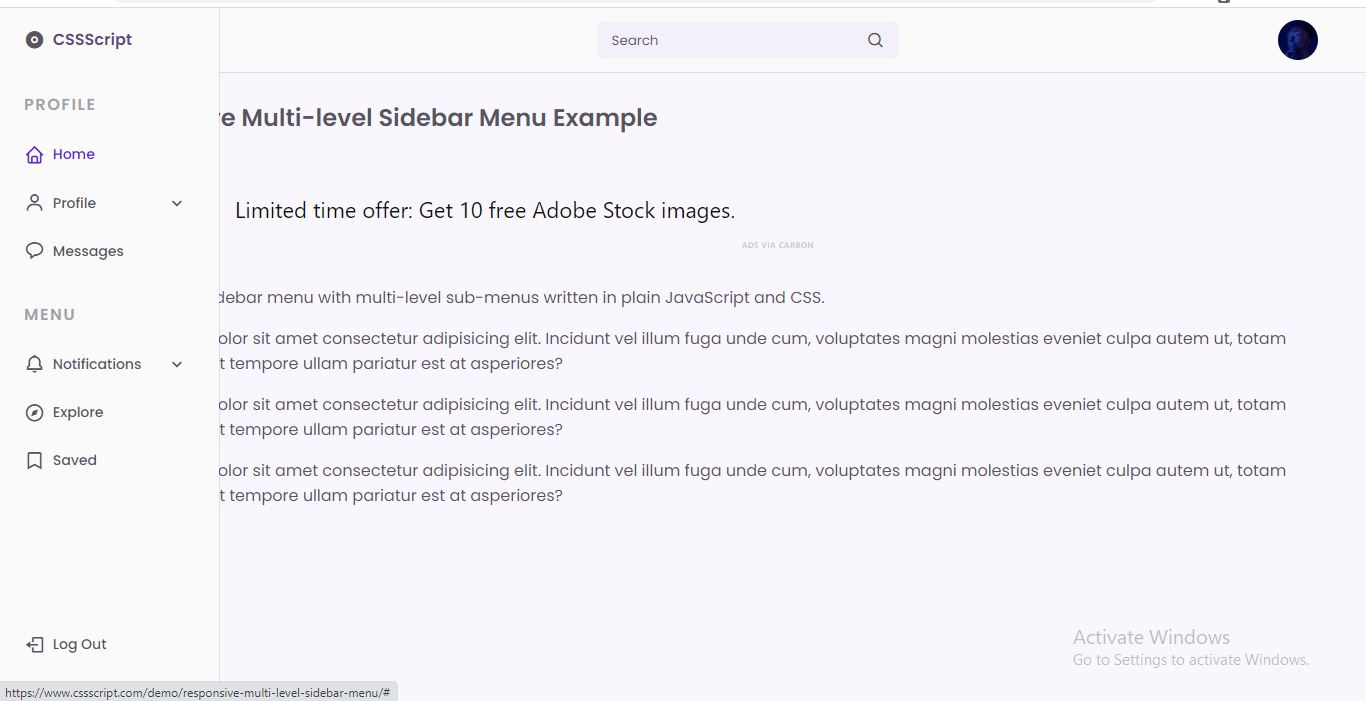Button: (858, 13, 894, 59)
Side Bar: (0, 0, 222, 661)
Text Field: (592, 12, 862, 60)
